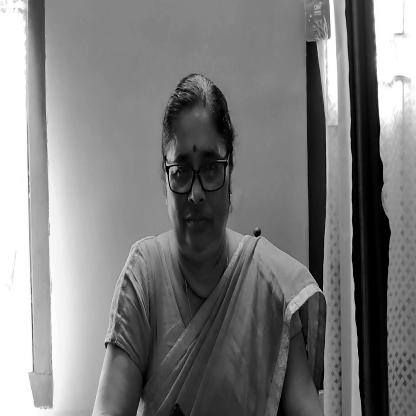Normal: (158, 74, 244, 268)
